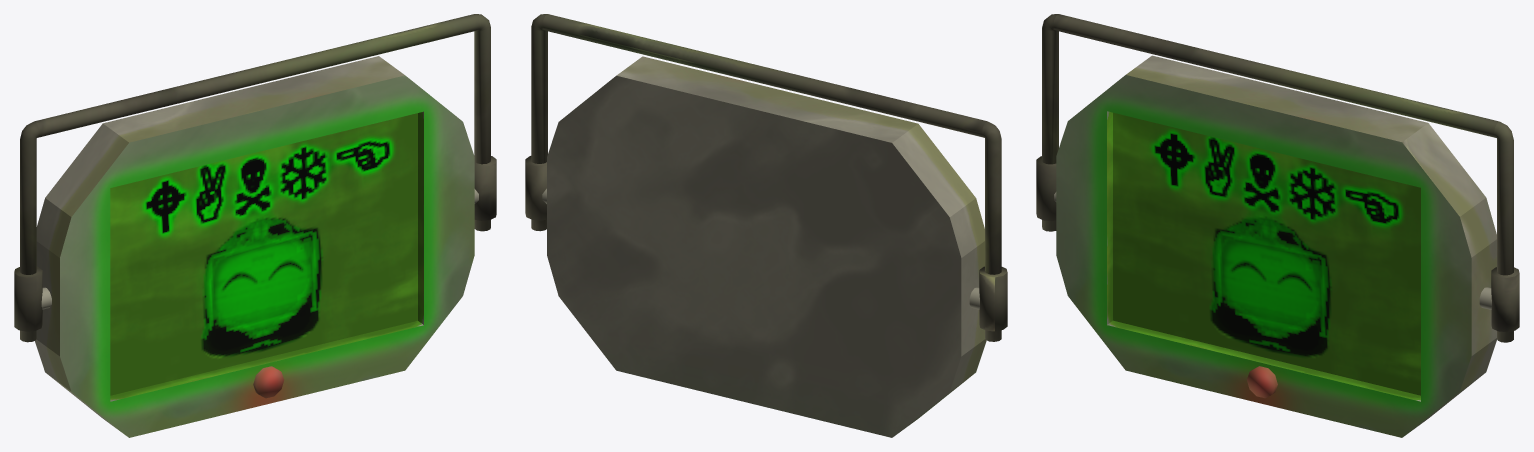
The model's file is Pantalla (1).FBX.
The picture shows the model from 3 angles, left to right: view 1: azimuth 30°, elevation 25°; view 2: azimuth 150°, elevation 25°; view 3: azimuth 330°, elevation 25°; orthographic projection.
Parts seen in each view (by area): view 1: Box001; view 2: Box001; view 3: Box001.
Part boxes in pixels (x1,y1,x2,y2): Box001: (14,14,496,437); Box001: (525,14,1007,437); Box001: (1036,14,1519,437).
Size of the model in its own units: 168 by 109 by 17.9.
